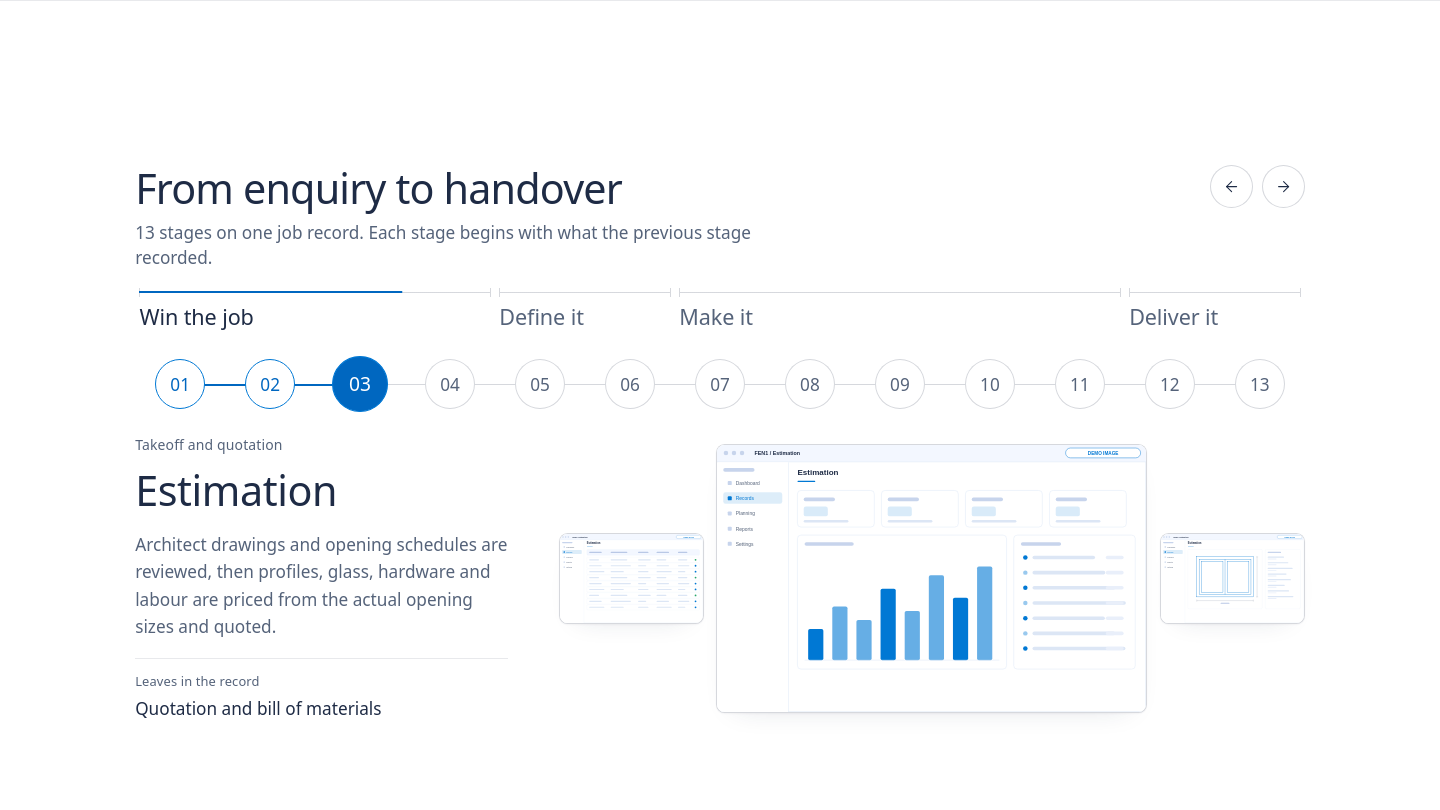
Test: Workflow (scroll-driven) › opens the stage's details when a screen is clicked, with its description, module and record
The width and height of the screenshot is (1440, 810).
Click the button named "Estimation, screen 2 of 3: open details": (631, 578) [559,533,704,623]
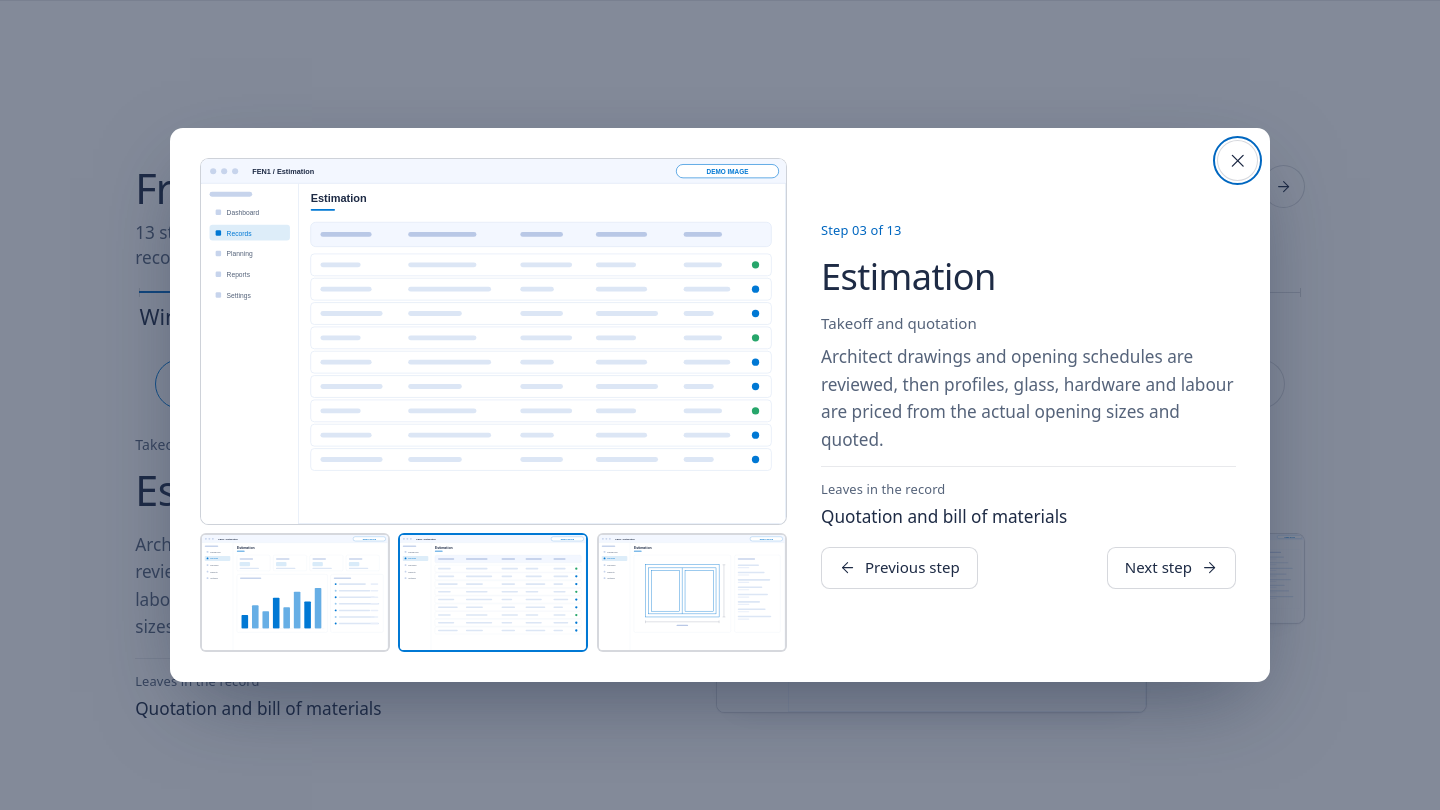
expect the heading "Estimation" is shown: met, box [821,251,996,301]
expect the dialog shows "Architect drawings and opening schedules are reviewed, then profiles, glass, hardware and labour are priced from the actual opening sizes and quoted.": met, box [821,345,1234,451]
expect the dialog shows "Quotation and bill of materials": met, box [821,505,1067,528]
